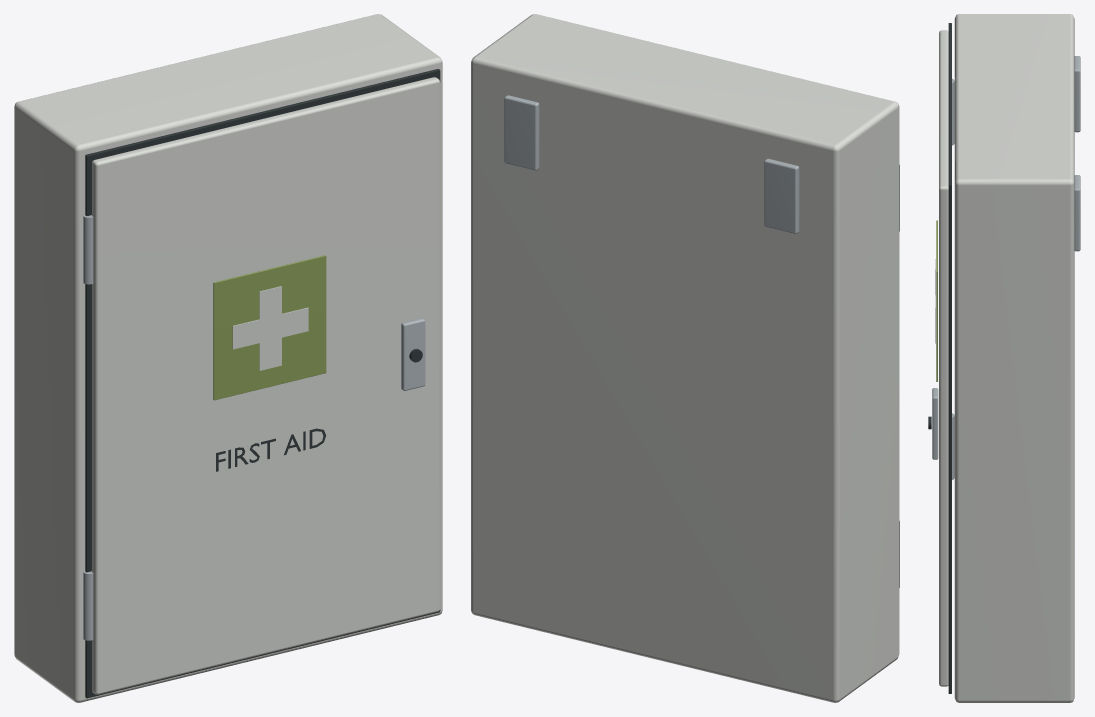
The model's file is garage-first-aid-cabinet.glb.
3 renders of one model, left to right at view 1: azimuth 30°, elevation 25°; view 2: azimuth 150°, elevation 25°; view 3: azimuth 270°, elevation 25°, orthographic. The views are drawn at different scales.
Visible parts, largest first — view 1: catalog_surface_RealismUV; view 2: catalog_surface_RealismUV; view 3: catalog_surface_RealismUV.
Part boxes in pixels (<box>): catalog_surface_RealismUV: <box>14,14,442,702</box>; catalog_surface_RealismUV: <box>471,14,899,702</box>; catalog_surface_RealismUV: <box>928,14,1080,702</box>.
Size of the model in its own units: 0.38 by 0.55 by 0.145.
